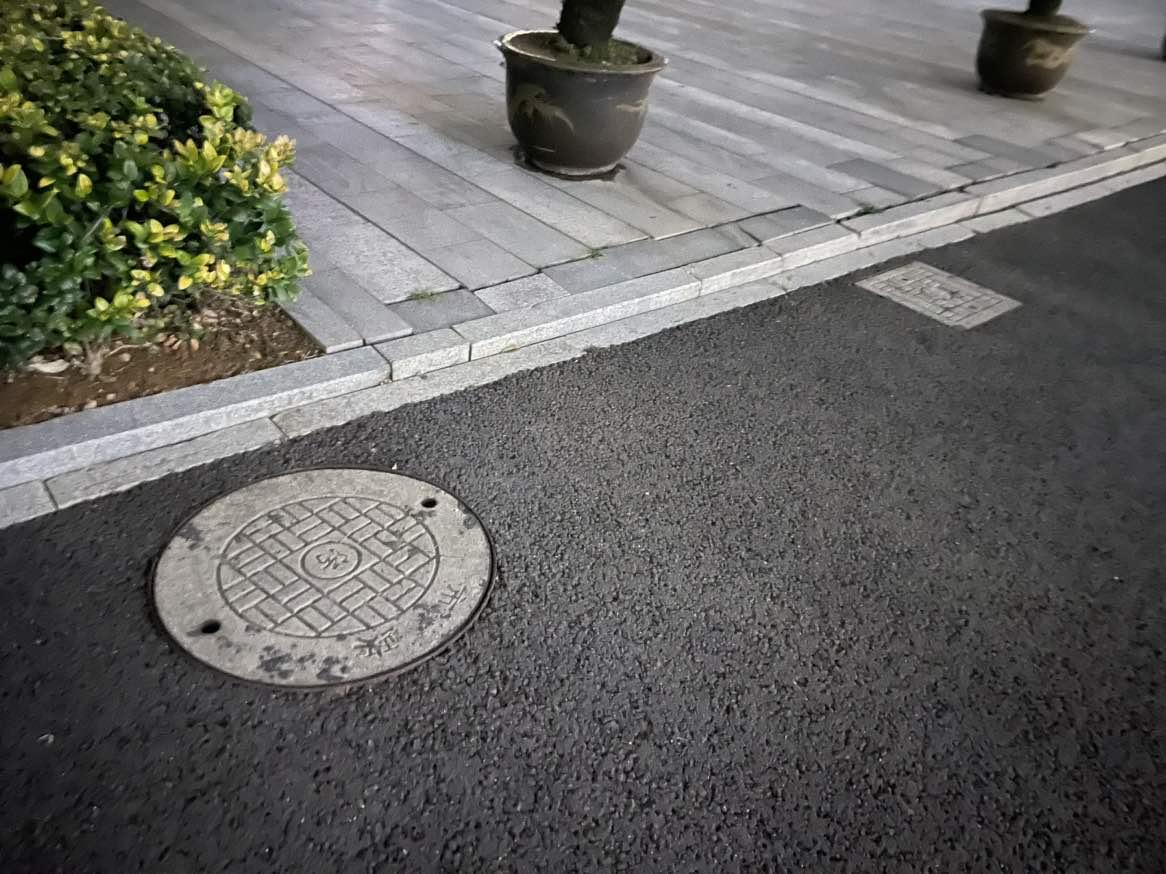wellcover: (136, 469, 531, 699), (848, 250, 1023, 337)
